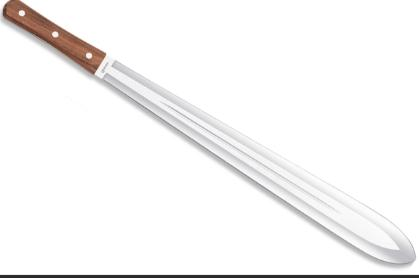MACHETTE: (0, 5, 419, 278)
